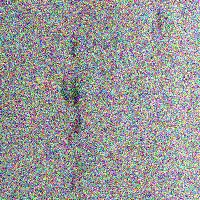inclusion: (66, 116, 91, 200), (58, 73, 86, 119), (147, 1, 162, 32), (66, 36, 77, 62)
